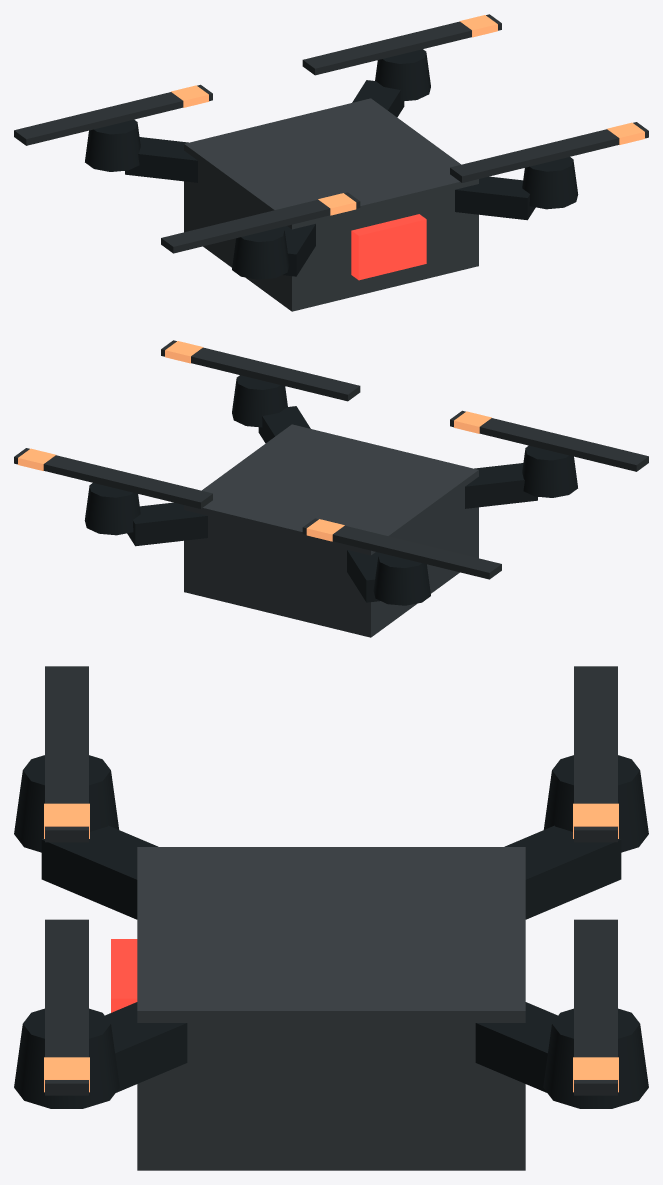
File: drone.glb
3 renders of one model, top to bottom at view 1: azimuth 30°, elevation 25°; view 2: azimuth 150°, elevation 25°; view 3: azimuth 270°, elevation 25°, orthographic. The views are drawn at different scales.
Parts seen in each view (by area): view 1: HeadBody, Blade (×4), CrossB, HeadEye, Motor3, Motor1, Motor4, CrossA, Motor2, BladeTip (×4); view 2: HeadBody, Blade (×4), CrossA, Motor1, Motor3, Motor2, CrossB, Motor4, BladeTip (×4); view 3: HeadBody, Blade (×4), CrossA, CrossB, Motor2, Motor4, BladeTip (×4), Motor1, Motor3, HeadEye.
Boxes of the visible parts, x1,y1,x2,y2 form: HeadBody: (184,98,478,311); Blade (×4): (14,14,648,253); CrossB: (125,137,535,220); HeadEye: (351,214,426,280); Motor3: (232,227,289,279); Motor1: (85,119,140,171); Motor4: (522,157,578,209); CrossA: (281,80,404,276); Motor2: (375,49,430,101); BladeTip (×4): (171,15,644,215); HeadBody: (184,424,478,637); Blade (×4): (14,340,648,579); CrossA: (127,463,537,546); Motor1: (373,553,430,605); Motor3: (522,445,577,497); Motor2: (84,483,140,535); CrossB: (258,406,381,602); Motor4: (232,375,287,427); BladeTip (×4): (18,341,491,541); HeadBody: (137,847,525,1170); Blade (×4): (45,666,617,1095); CrossA: (41,825,557,1092); CrossB: (105,825,621,1092); Motor2: (543,1008,648,1108); Motor4: (14,1008,119,1108); BladeTip (×4): (44,803,618,1092); Motor1: (543,755,648,852); Motor3: (14,755,119,852); HeadEye: (111,939,137,1012).
Bounding box in the file's own units: 1.12 × 0.308 × 0.72.
